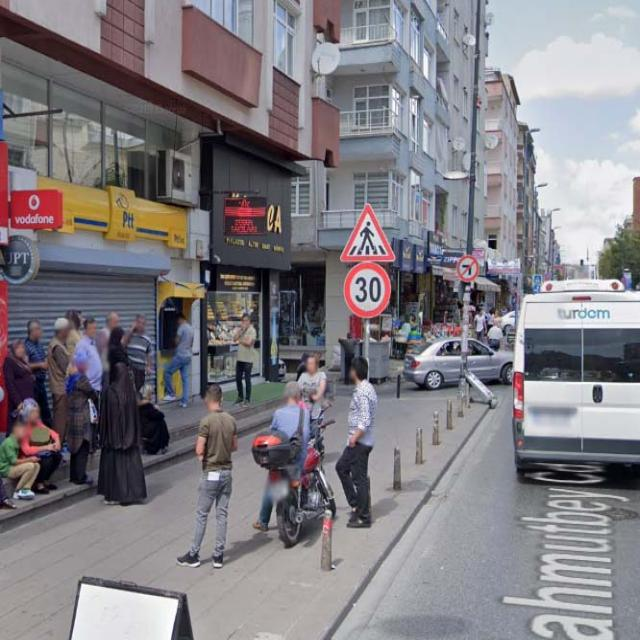30: (343, 261, 392, 320)
soladonulmez: (458, 256, 478, 282)
